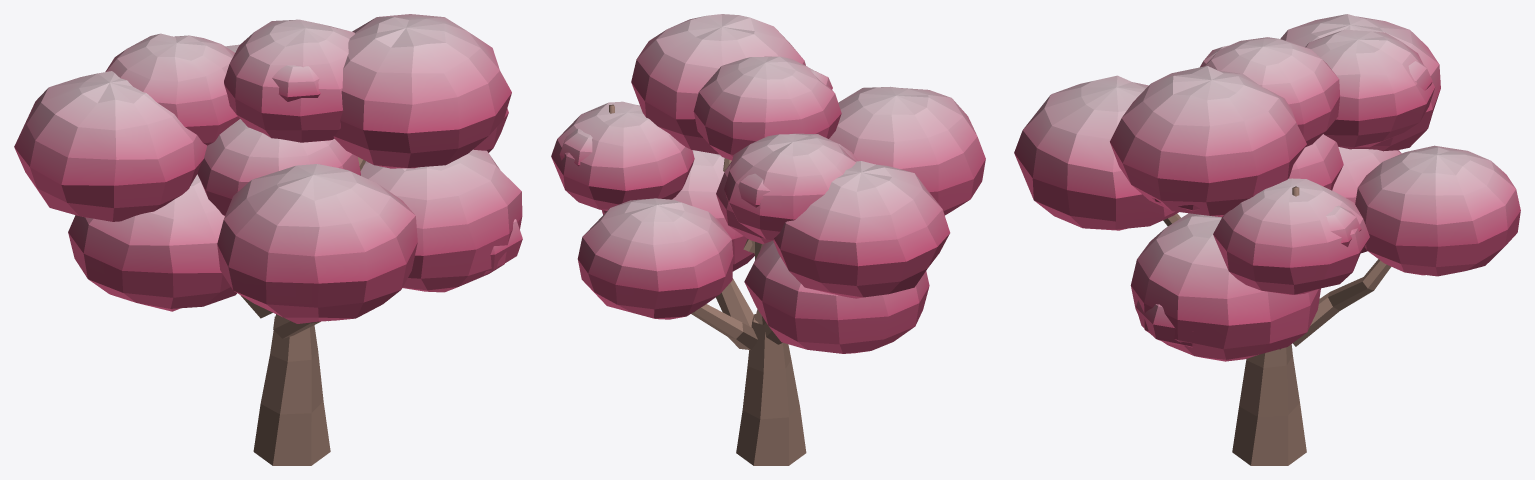
File: Sakura_Tree.glb
3 views of the same model, side by side, from view 1: azimuth 30°, elevation 25°; view 2: azimuth 150°, elevation 25°; view 3: azimuth 270°, elevation 25° (orthographic). The views are drawn at different scales.
Visible parts, largest first — view 1: Sakura_Tree_Blossoms, Sakura_Tree_Trunk; view 2: Sakura_Tree_Blossoms, Sakura_Tree_Trunk; view 3: Sakura_Tree_Blossoms, Sakura_Tree_Trunk.
Part boxes in pixels (<box>): Sakura_Tree_Blossoms: <box>14,14,522,323</box>; Sakura_Tree_Trunk: <box>240,157,365,465</box>; Sakura_Tree_Blossoms: <box>551,14,985,353</box>; Sakura_Tree_Trunk: <box>691,158,806,465</box>; Sakura_Tree_Blossoms: <box>1014,14,1520,361</box>; Sakura_Tree_Trunk: <box>1163,213,1390,465</box>.
Bounding box in the file's own units: 1.84 × 1.7 × 1.9.
